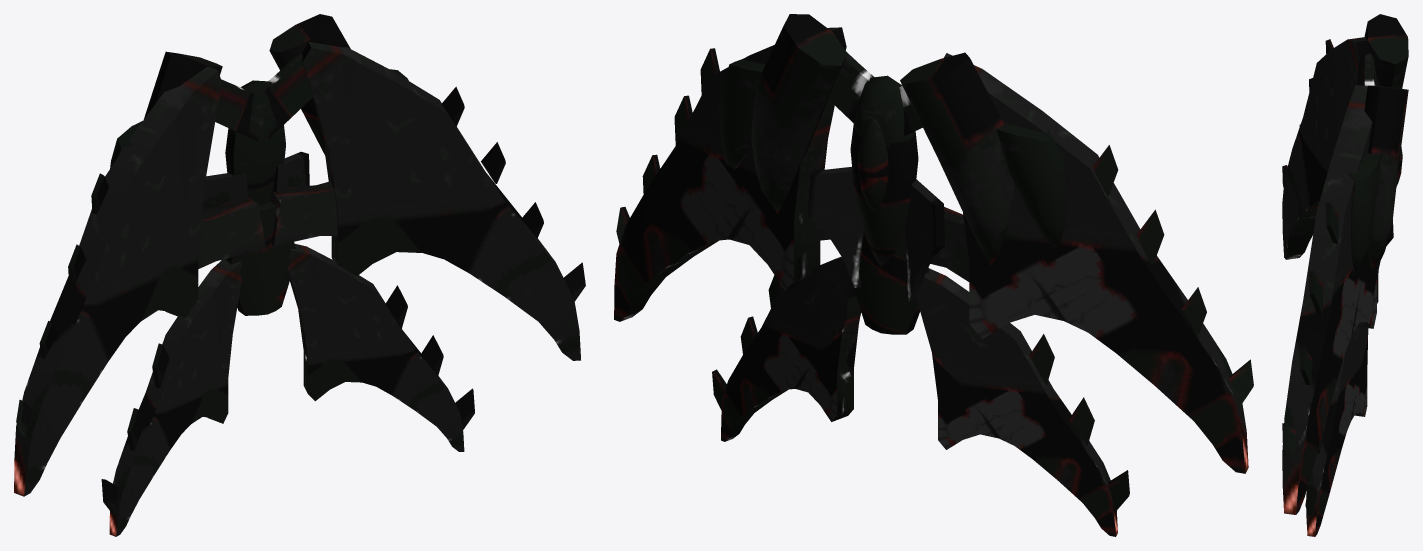
Rendered from Flayer.fbx.
3 views of the same model, side by side, from view 1: azimuth 30°, elevation 25°; view 2: azimuth 150°, elevation 25°; view 3: azimuth 270°, elevation 25° (orthographic). The views are drawn at different scales.
Parts seen in each view (by area): view 1: ship20b.009; view 2: ship20b.009; view 3: ship20b.009.
Boxes of the visible parts, x1,y1,x2,y2 form: ship20b.009: (14, 14, 585, 536); ship20b.009: (614, 14, 1253, 536); ship20b.009: (1282, 14, 1408, 536).
Size of the model in its own units: 17624 by 12716 by 3598.
Materials: 1 (1 with a texture image).
